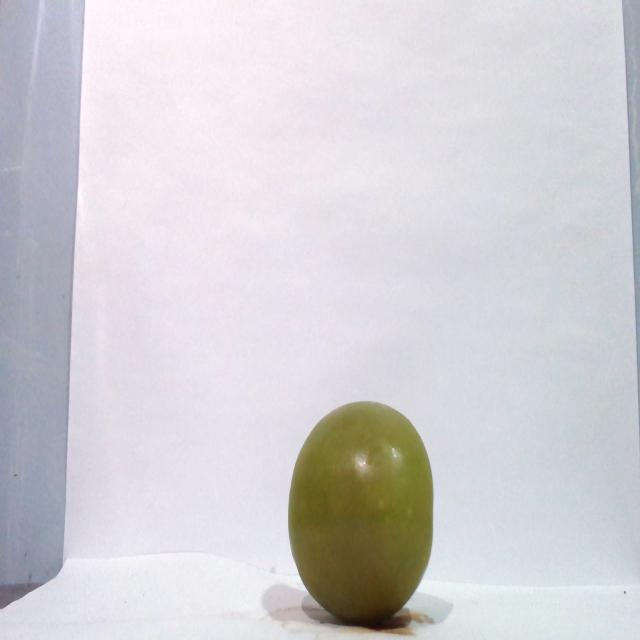Red: (286, 399, 435, 625)
